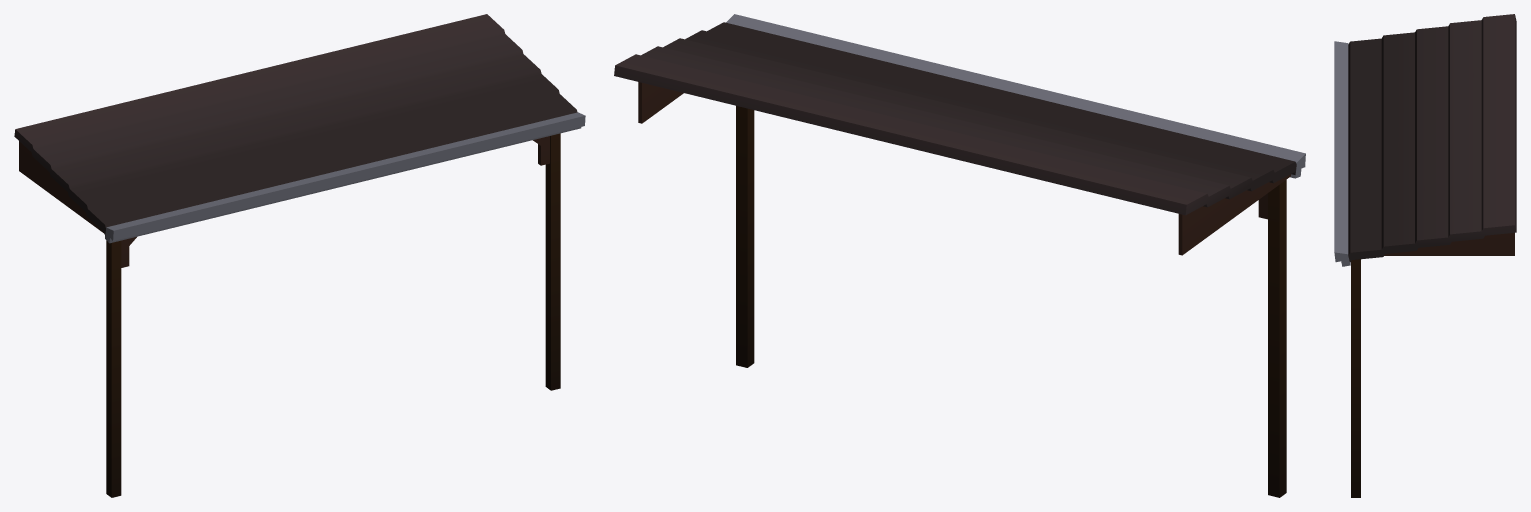
Rendered from Awning 6M.glb.
The picture shows the model from 3 angles, left to right: view 1: azimuth 30°, elevation 25°; view 2: azimuth 150°, elevation 25°; view 3: azimuth 270°, elevation 25°; orthographic projection. The views are drawn at different scales.
Parts seen in each view (by area): view 1: awning 6M; view 2: awning 6M; view 3: awning 6M.
Boxes of the visible parts, x1,y1,x2,y2 form: awning 6M: (14,14,585,497); awning 6M: (614,14,1305,497); awning 6M: (1334,14,1516,497).
Size of what is drawn, in the model's own units: 6 by 3.71 by 2.19.
Materials: 1 (1 with a texture image).
